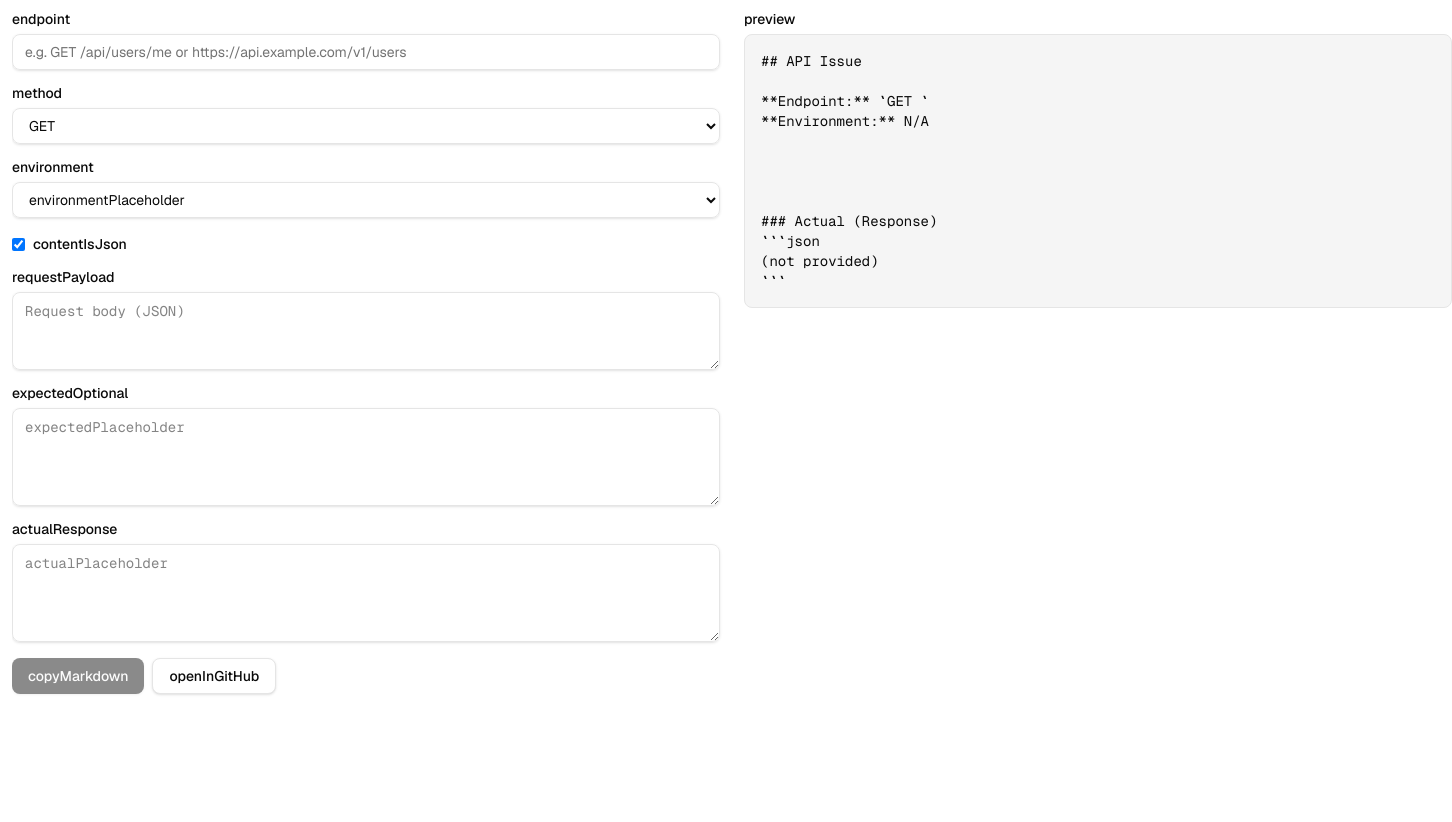
Test: ApiReporterClient › renders form and preview with endpoint and method
Type "/api/users/me" into the field labelled "endpoint".
click(366, 52); type("/api/users/me")  # box [12, 34, 720, 70]
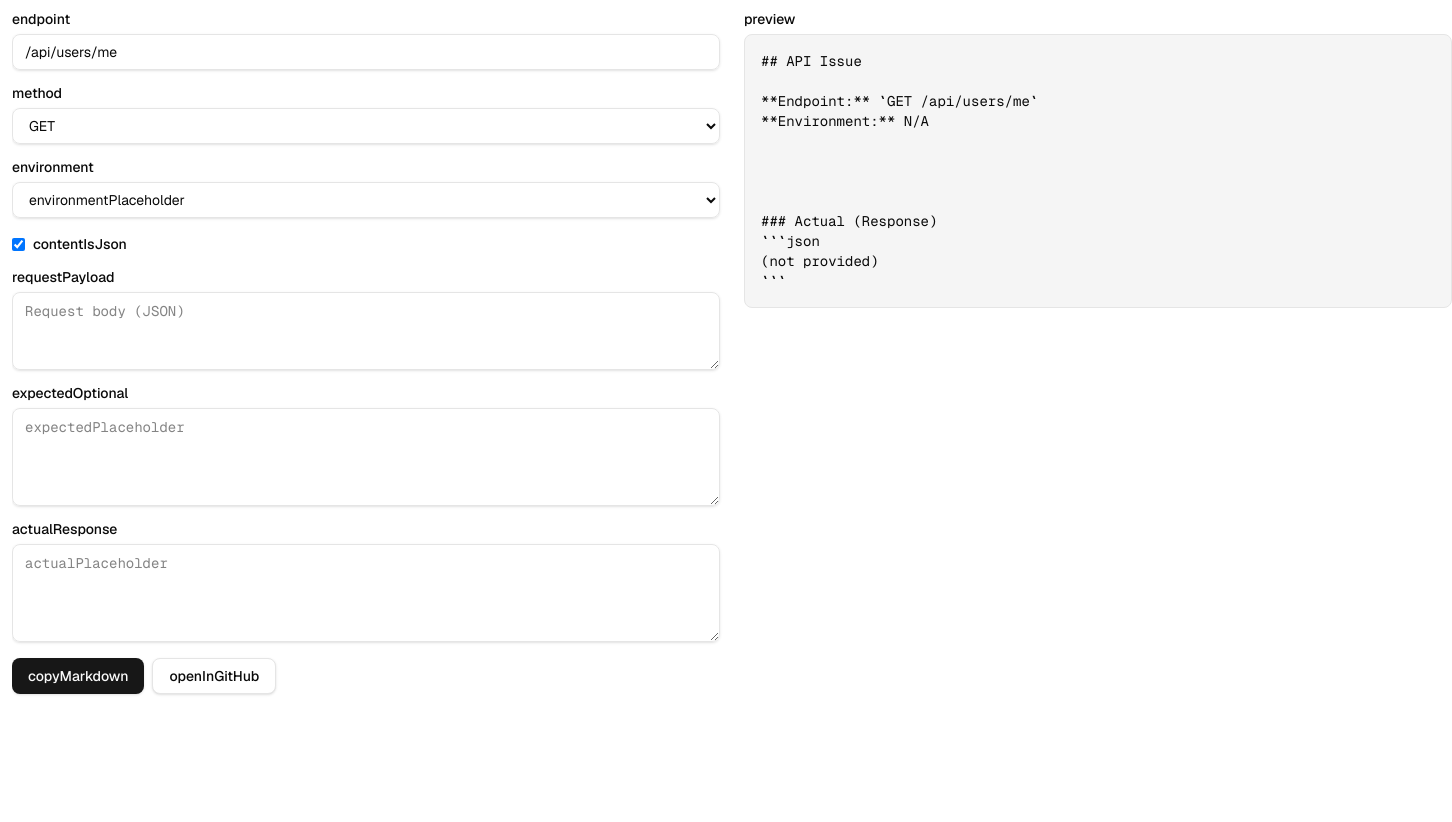
Select "POST" in the dropdown labelled "method" at [366, 126], box [12, 108, 720, 144]
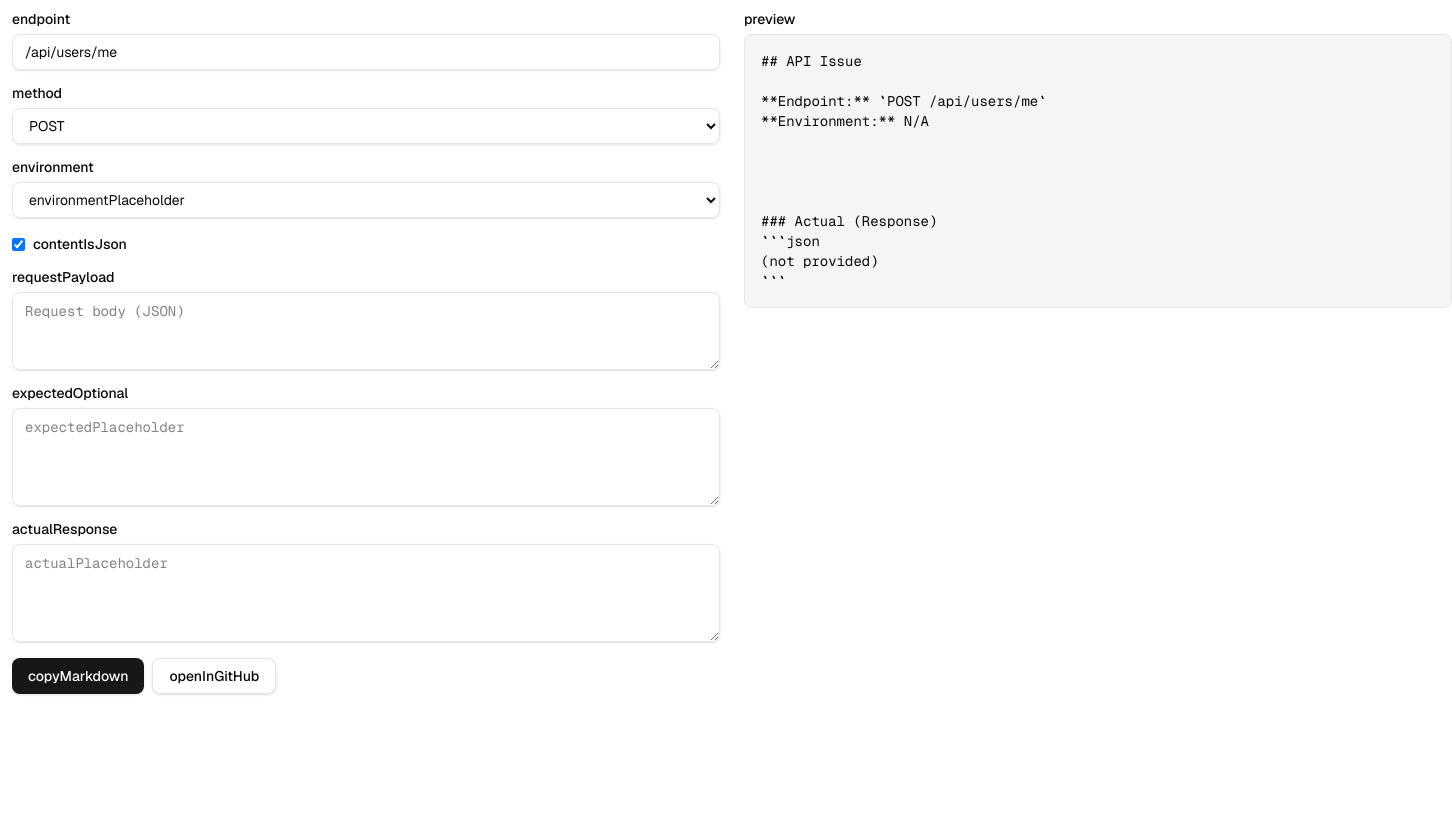
Check: the text "## API Issue" shows "/api/users/me", box [761, 52, 1047, 290]
Check: the text "## API Issue" shows "**Endpoint:** `POST /api/users/me`", box [761, 52, 1047, 290]
